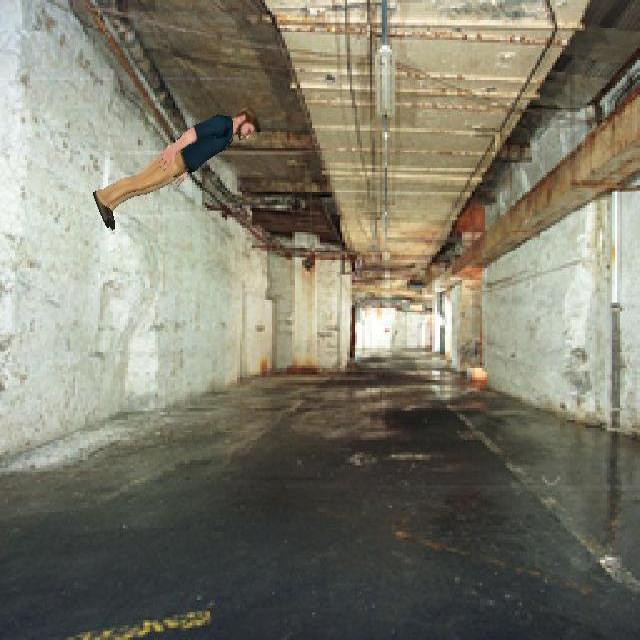obstacle: (92, 107, 264, 232)
